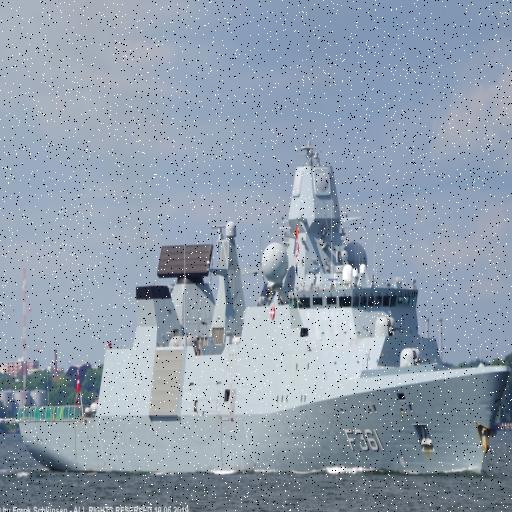Fragata: (13, 140, 512, 482)
